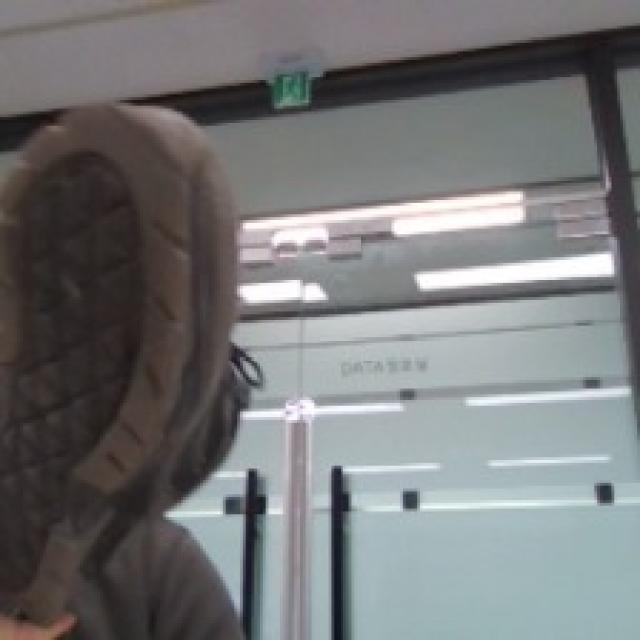shoe: (0, 83, 275, 626)
